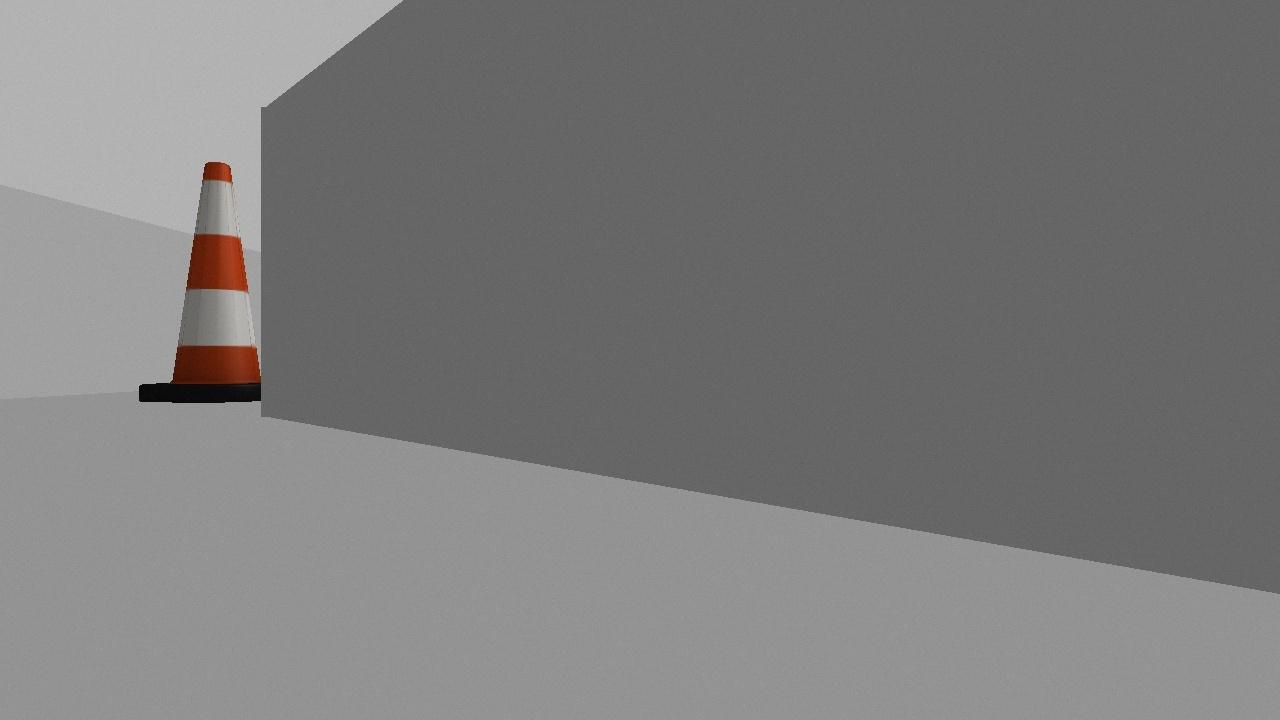cone_barrel: (132, 149, 285, 407)
